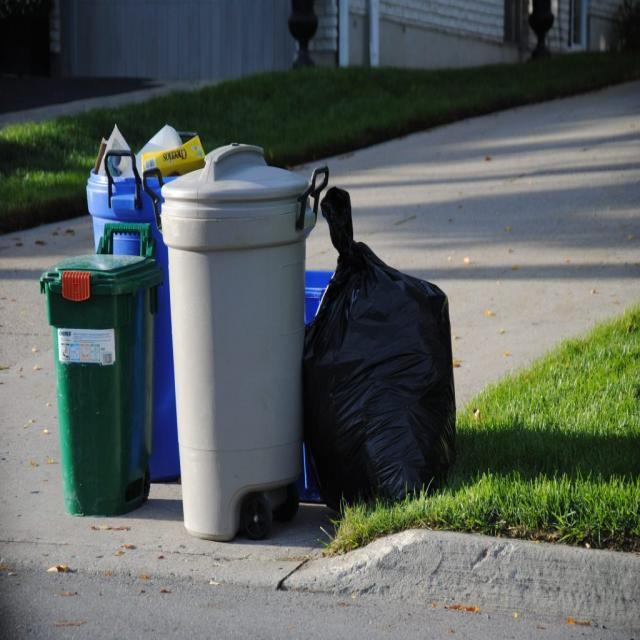Vinyl: (302, 186, 460, 520)
